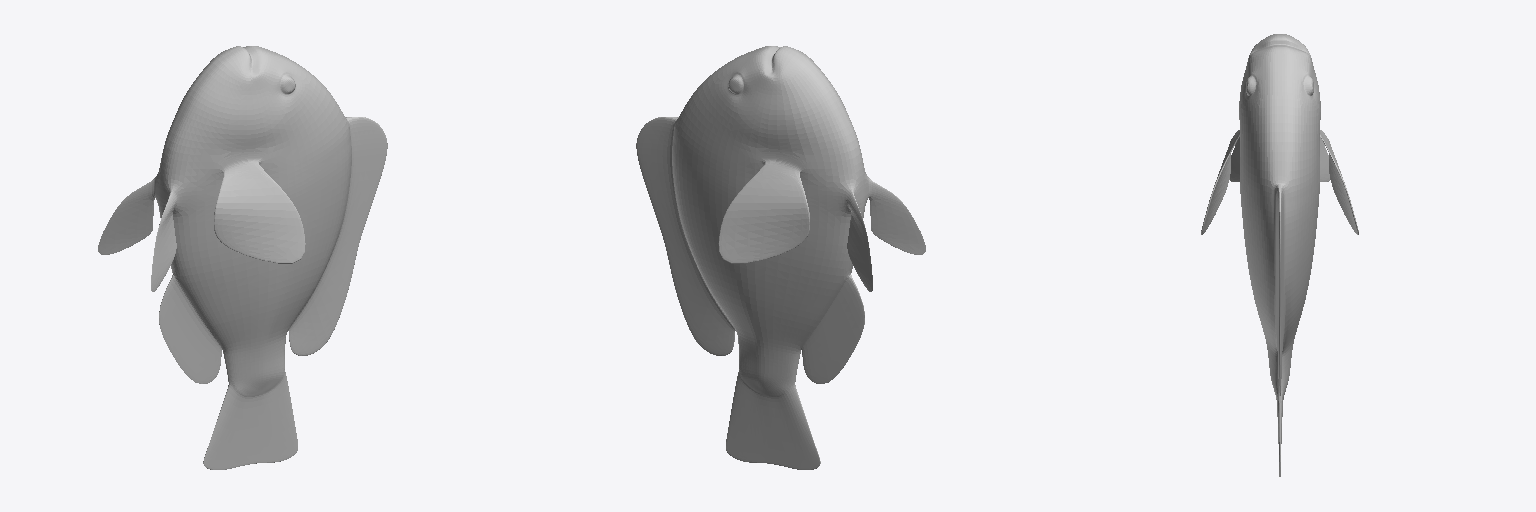
File: fisi2.obj
The picture shows the model from 3 angles: view 1: azimuth 30°, elevation 25°; view 2: azimuth 150°, elevation 25°; view 3: azimuth 270°, elevation 25°; orthographic projection.
Visible parts, largest first — view 1: 12265_Fish_v1_L2; view 2: 12265_Fish_v1_L2; view 3: 12265_Fish_v1_L2.
Part boxes in pixels (bbox=[...]): 12265_Fish_v1_L2: bbox=[98, 46, 387, 469]; 12265_Fish_v1_L2: bbox=[636, 46, 925, 469]; 12265_Fish_v1_L2: bbox=[1201, 34, 1358, 476].
Bounding box in the file's own units: 2.24 × 3.44 × 1.16.